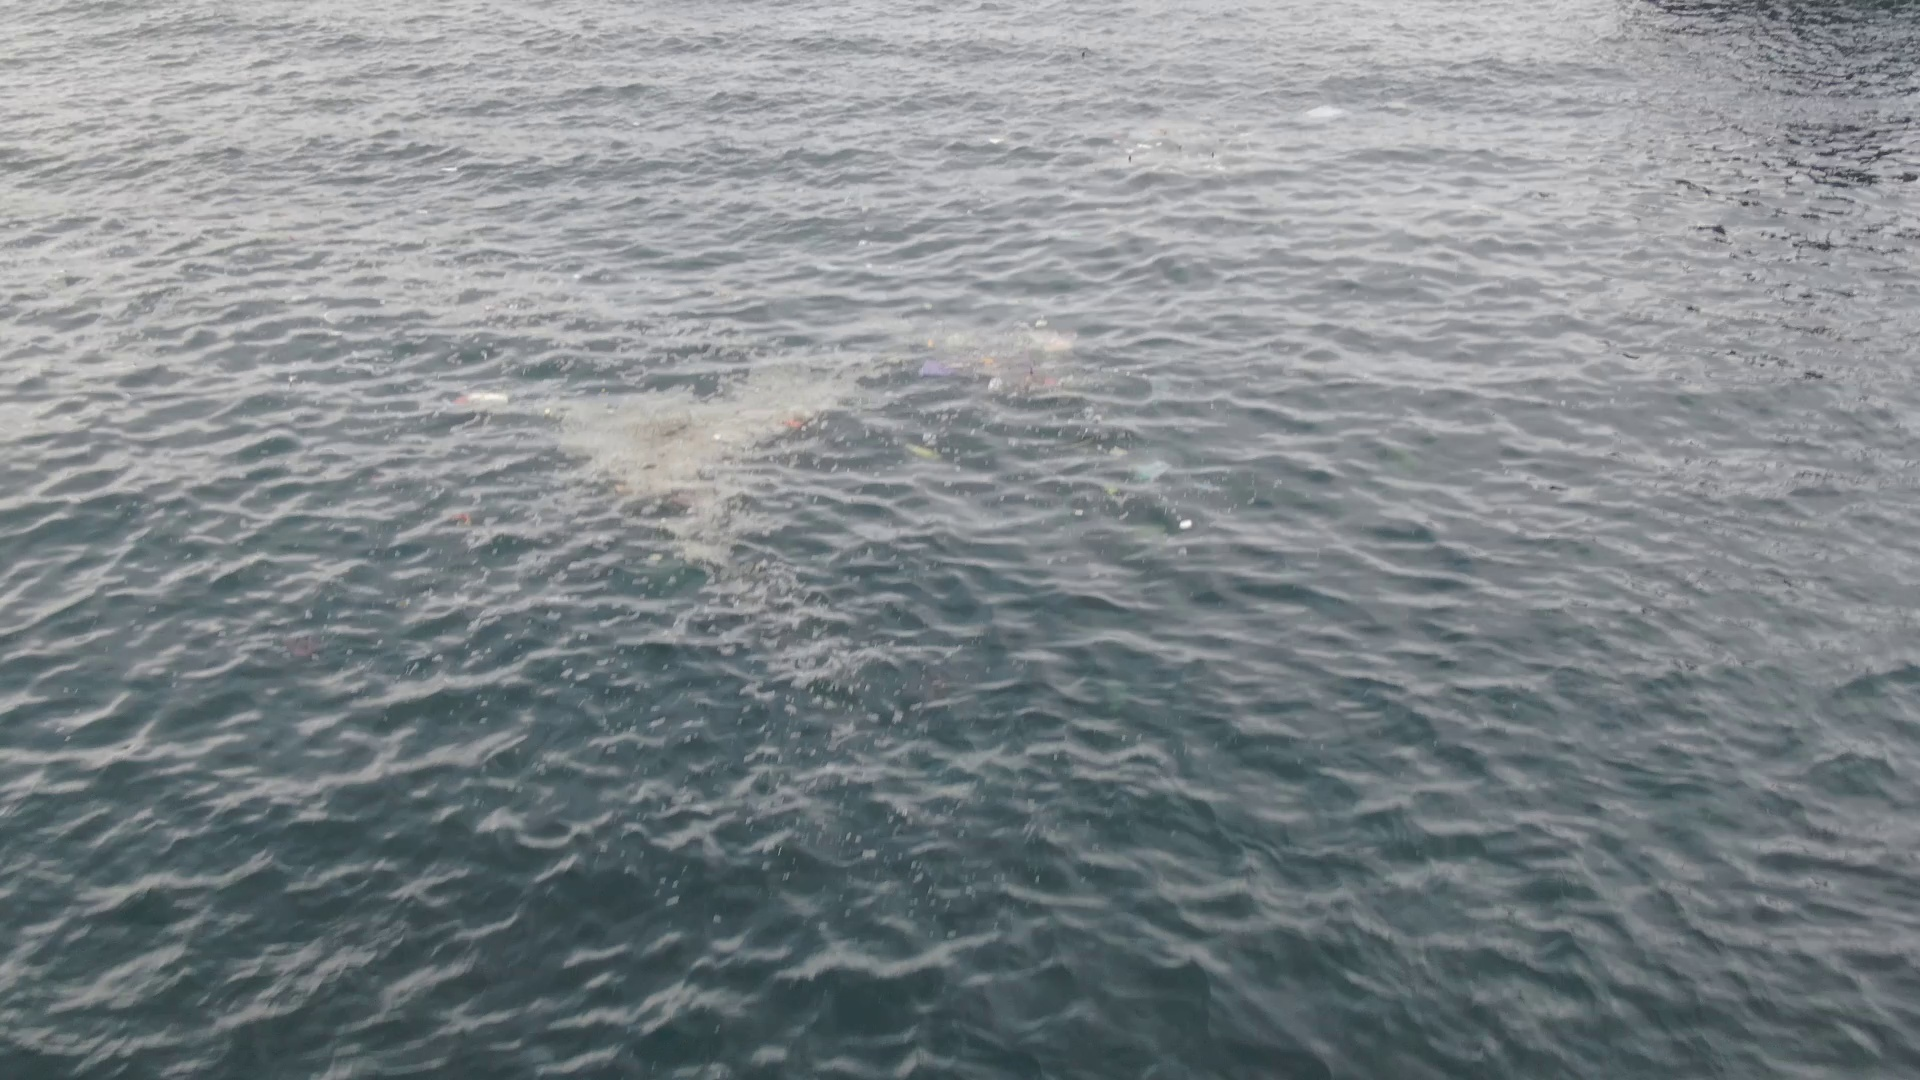garbage: (920, 359, 968, 377), (454, 389, 509, 404), (905, 442, 942, 462), (1138, 459, 1170, 480), (1178, 517, 1193, 531), (783, 419, 803, 429)
